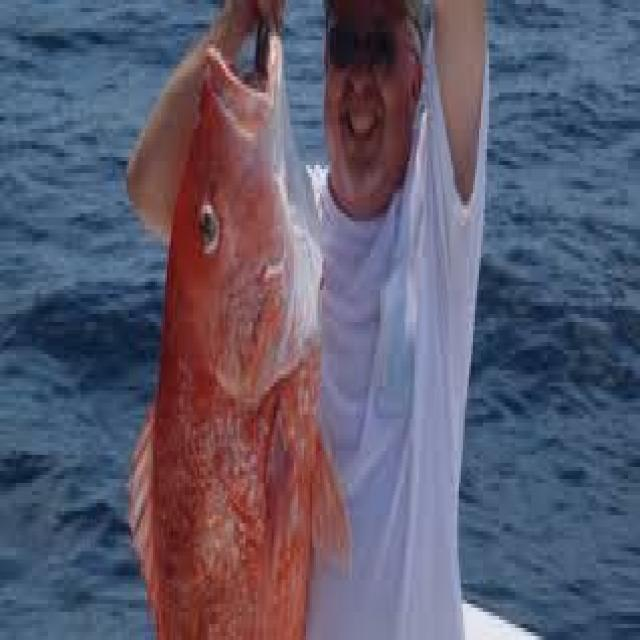northern-red-snapper: (130, 9, 351, 640)
